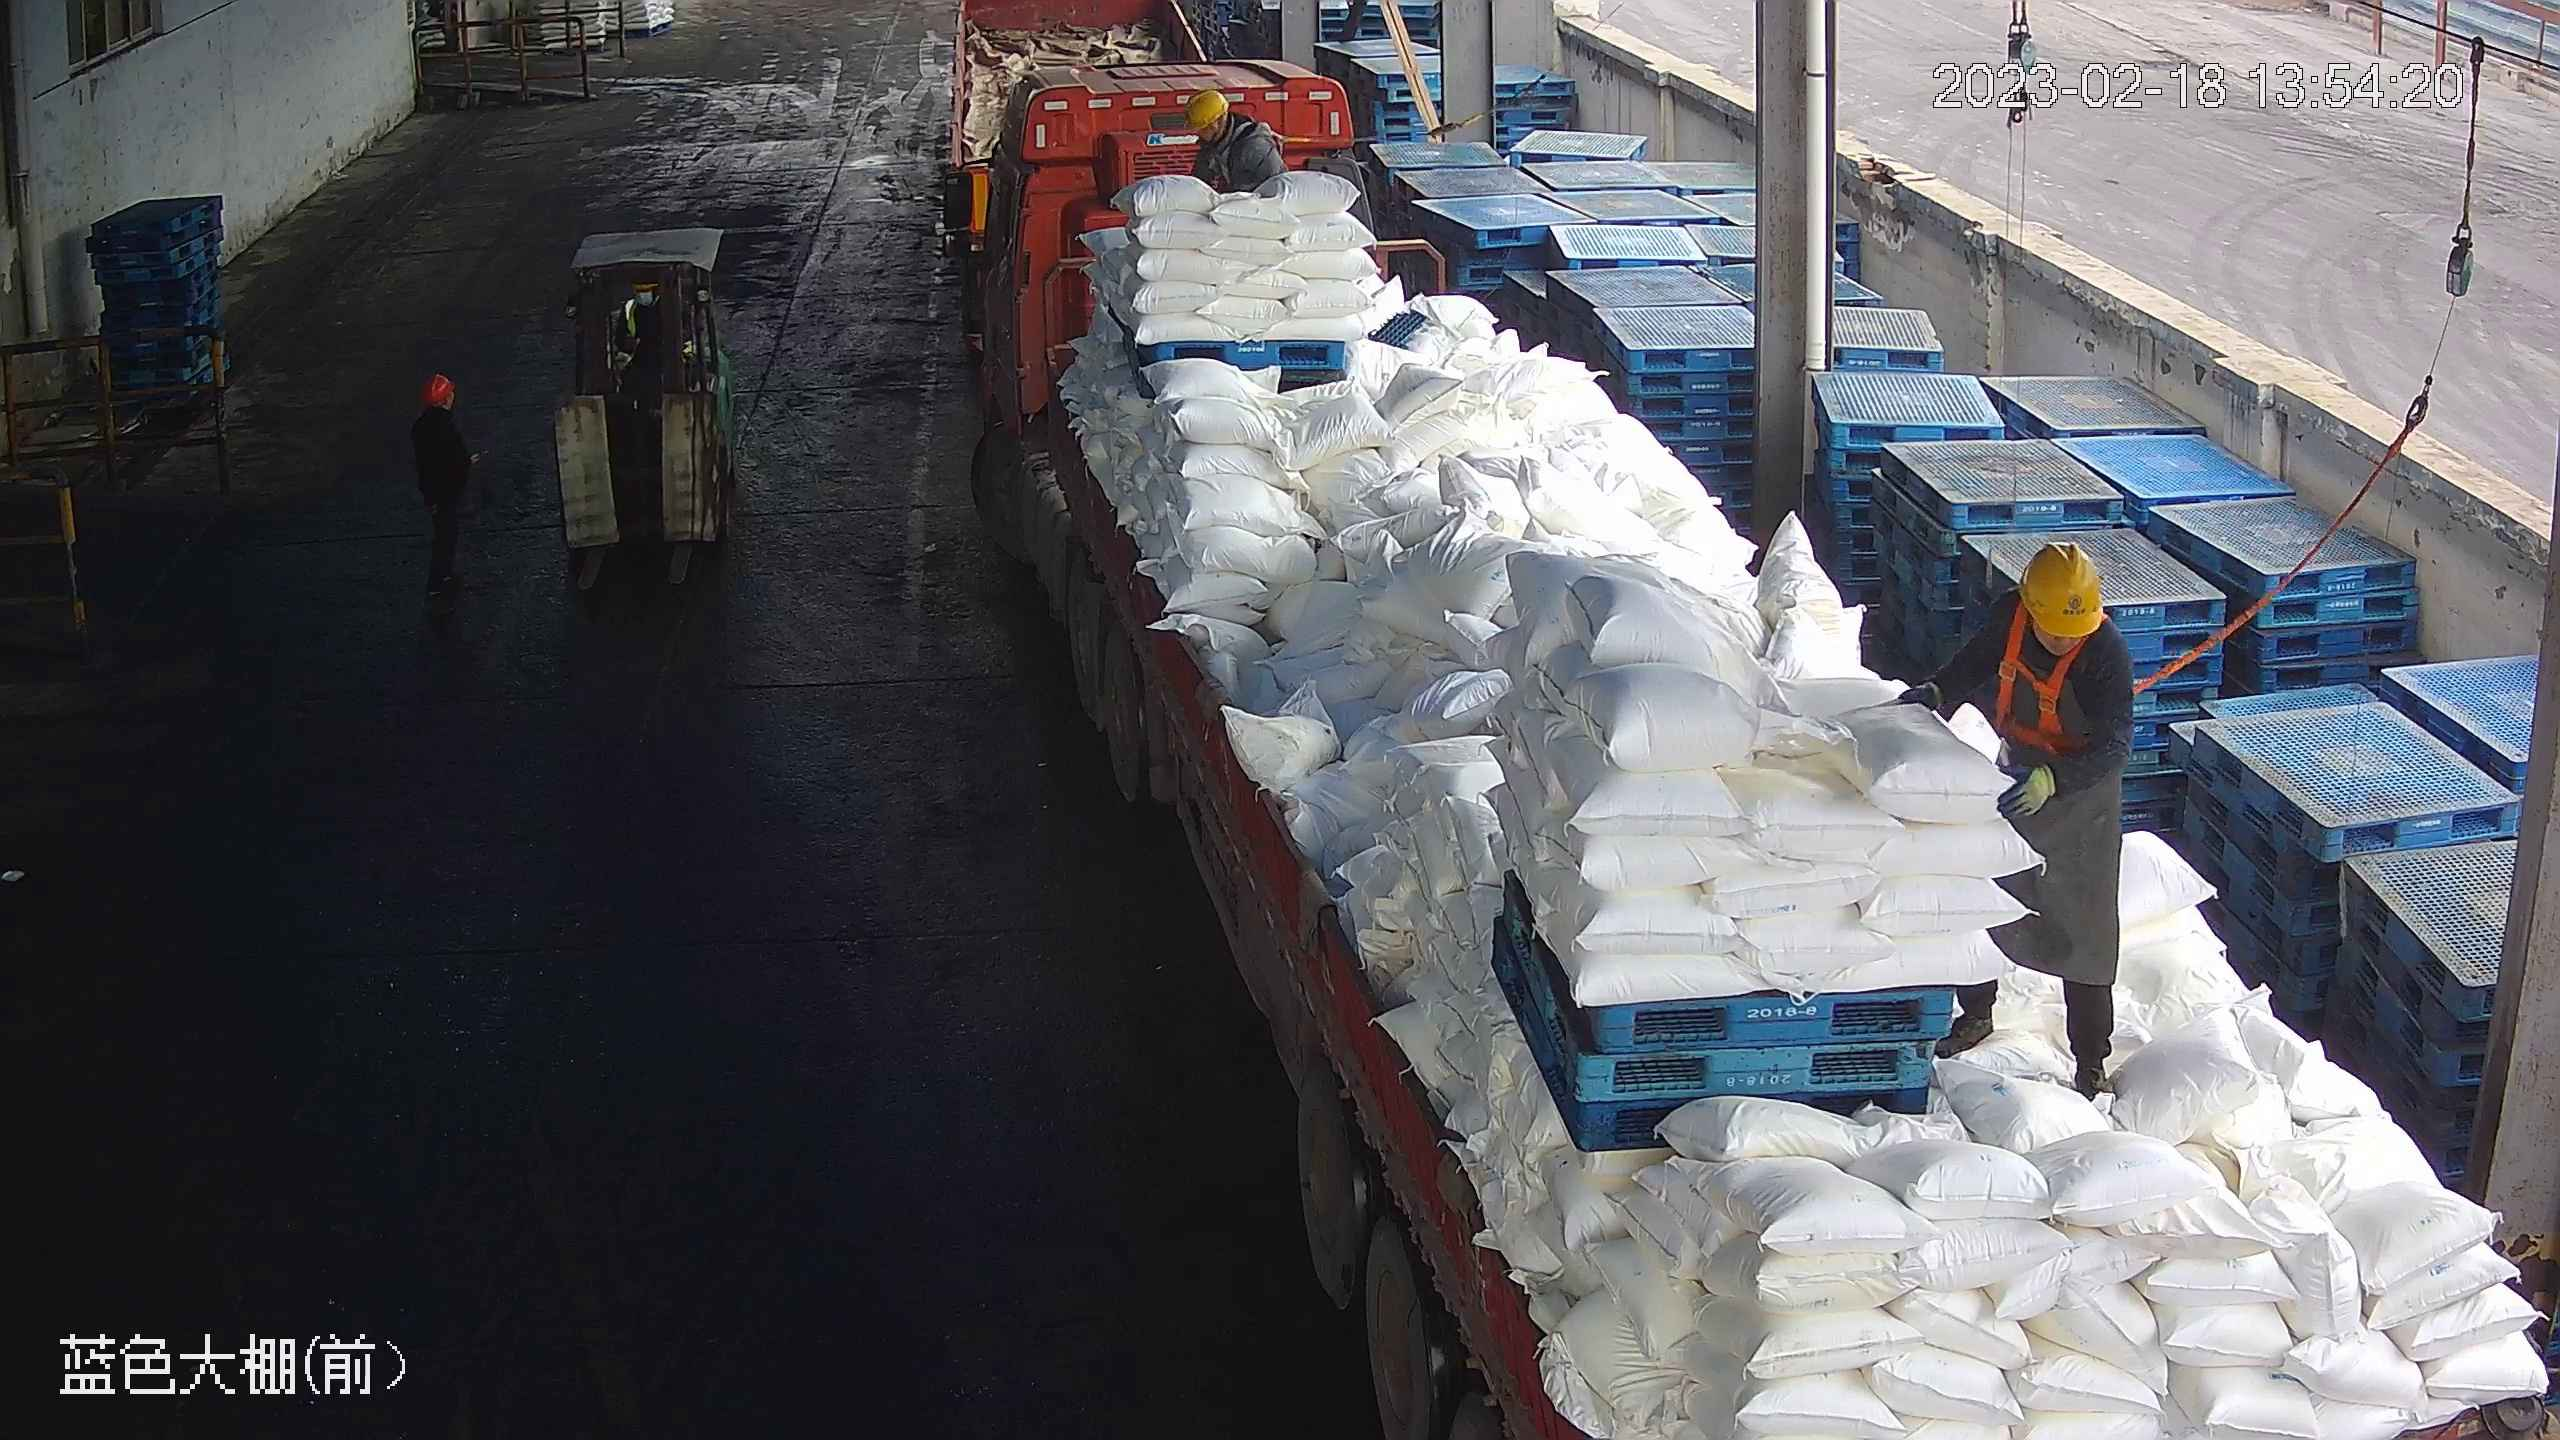belt: (1987, 609, 2151, 751), (1214, 114, 1284, 179)
head: (1969, 538, 2136, 688), (1184, 87, 1275, 159), (412, 372, 465, 440)
helmet: (2016, 538, 2108, 638), (1183, 86, 1230, 128), (423, 373, 456, 405)
people: (1897, 538, 2137, 1100), (411, 371, 477, 607)
truck: (947, 61, 2560, 1440)
